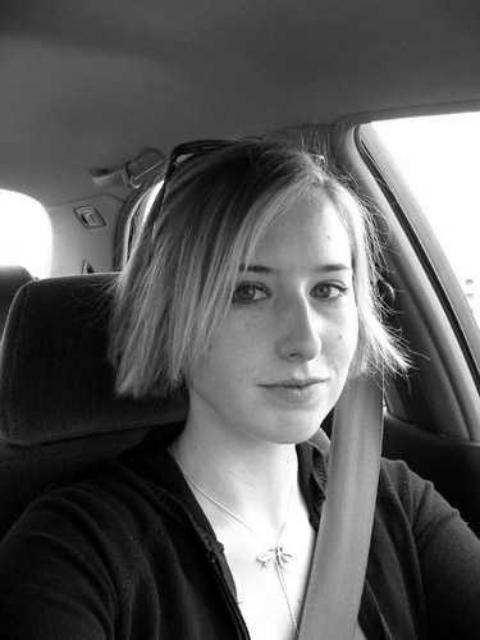SafeDriving: (221, 266, 281, 312), (300, 265, 354, 307)
Seatbelt: (284, 356, 394, 640)
